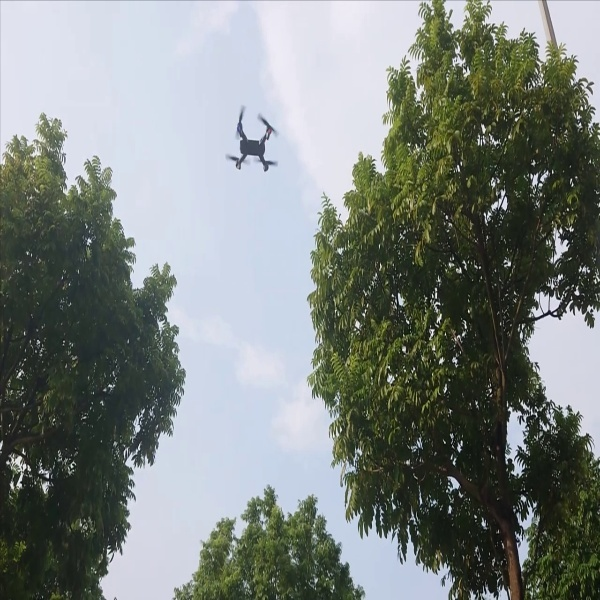drone: (224, 100, 286, 176)
